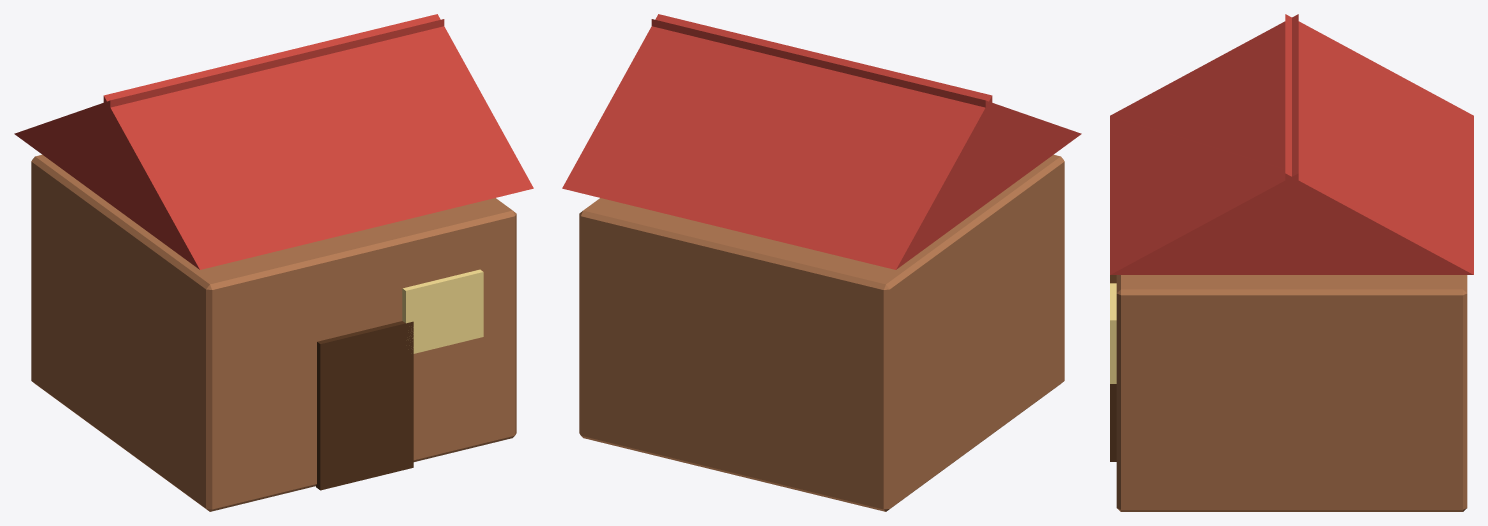
The model's file is CrewCabin.fbx.
3 renders of one model, left to right at view 1: azimuth 30°, elevation 25°; view 2: azimuth 150°, elevation 25°; view 3: azimuth 270°, elevation 25°, orthographic. The views are drawn at different scales.
Visible parts, largest first — view 1: CrewCabin; view 2: CrewCabin; view 3: CrewCabin.
Boxes of the visible parts, box(x1,y1,x2,y2) form: CrewCabin: box(14, 14, 533, 511); CrewCabin: box(562, 14, 1081, 511); CrewCabin: box(1110, 14, 1473, 511).
Size of the model in its own units: 8.6 by 8.71 by 8.3.
1 material, 1 textured.
